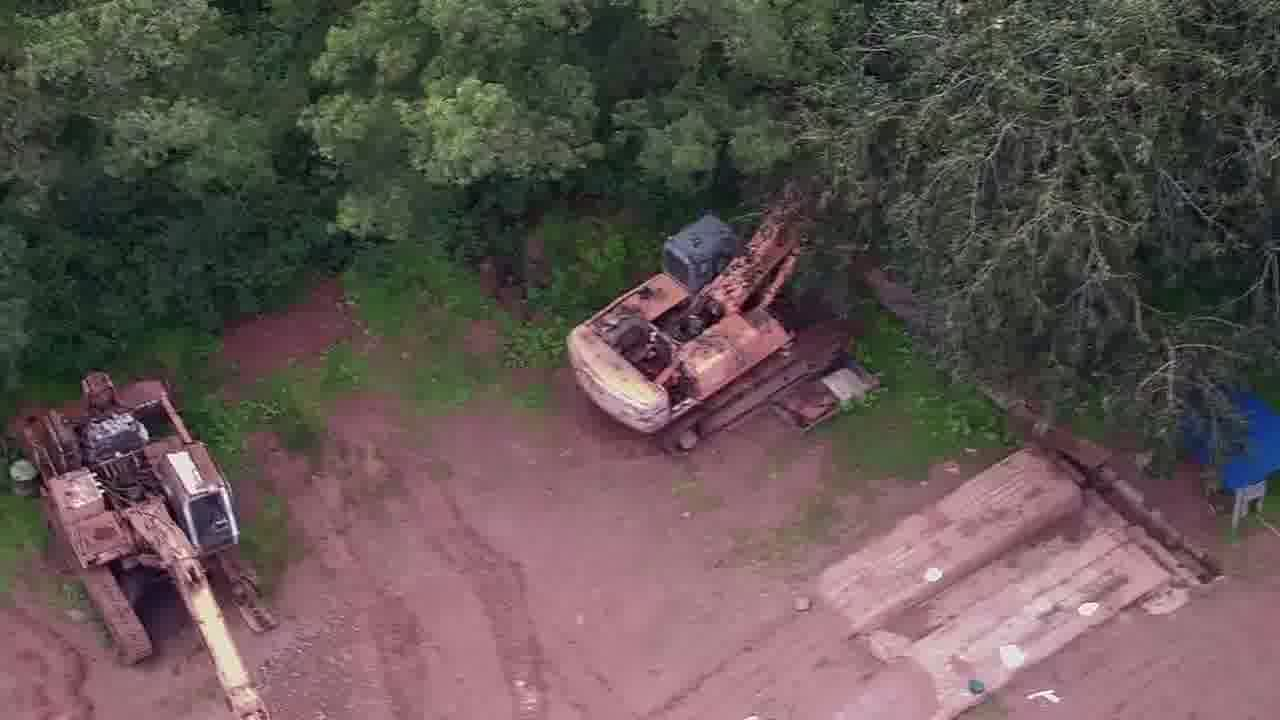HMV: (28, 352, 272, 720), (561, 190, 841, 443)
